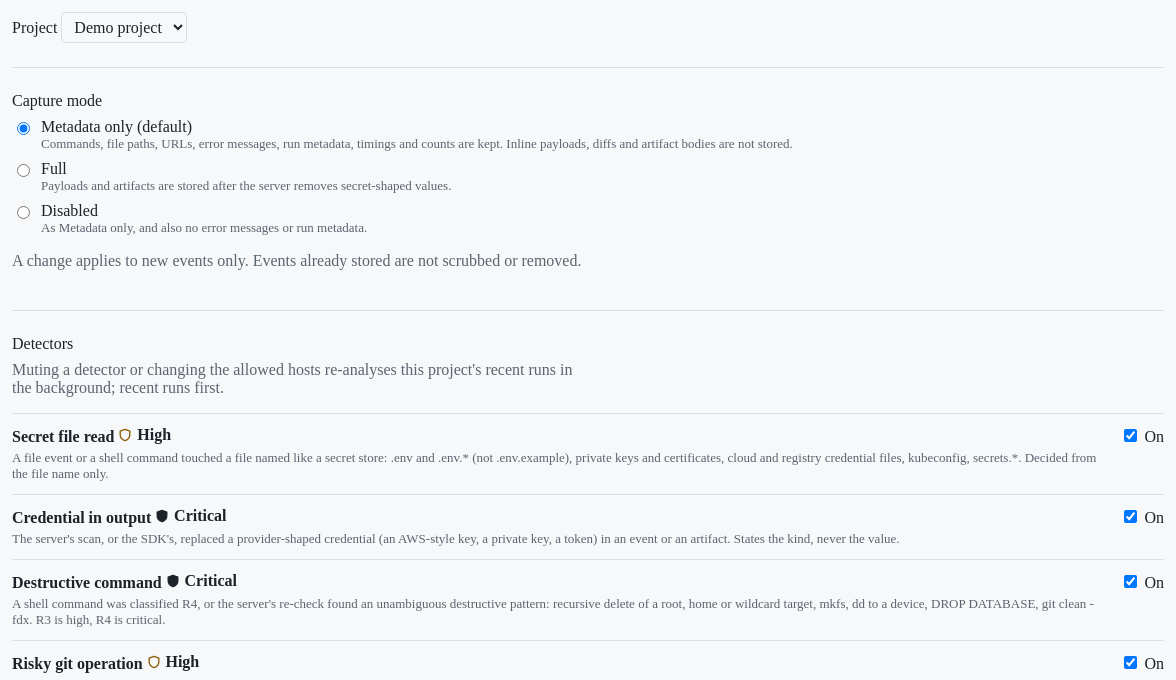
Test: Security settings › saves only what changed, then shows what the API stored
Check: the element "Capture mode" is shown, box [12,67,1164,286]
Click the radio button labelled "Full" at (24, 170), box [17,164,30,177]
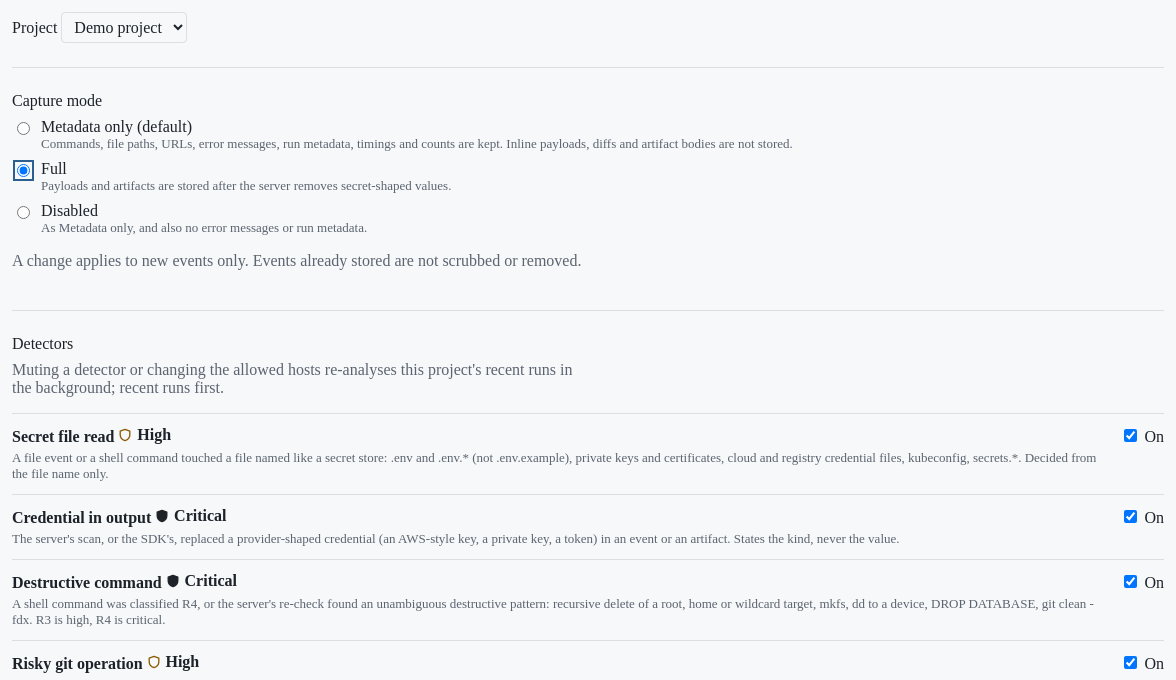
Click the checkbox named "Report risky git" at (1131, 662), box [1124,656,1137,669]
(page scrolled)
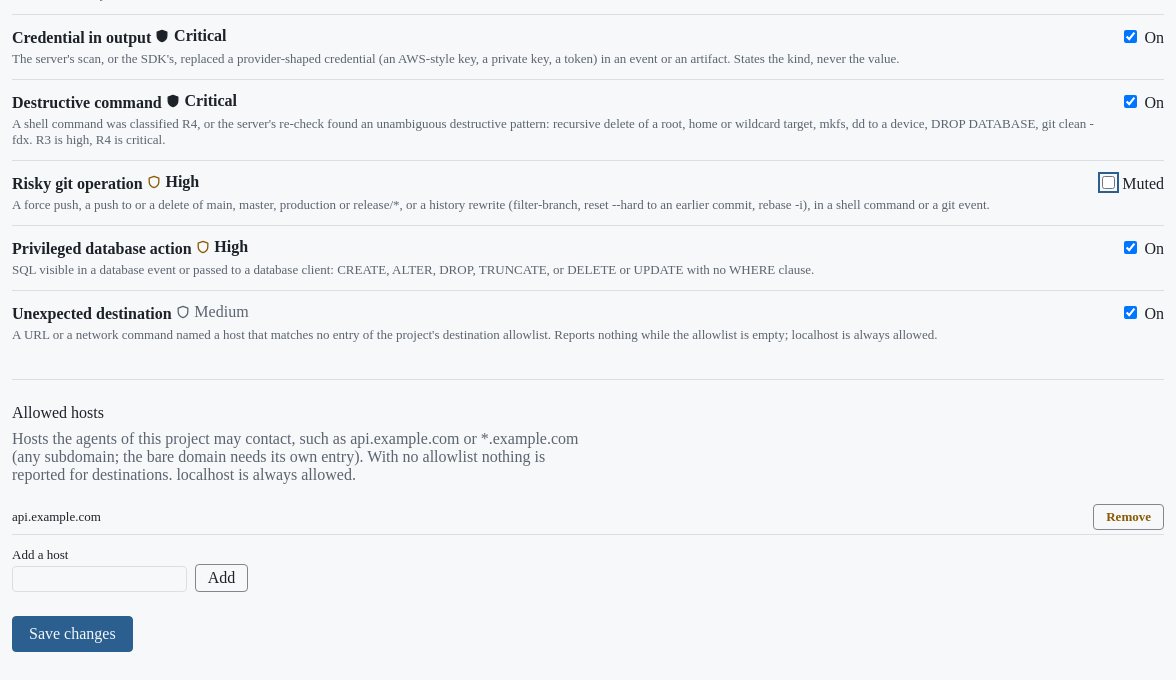
Click the button "Save changes" at (72, 634), box [12,616,133,652]
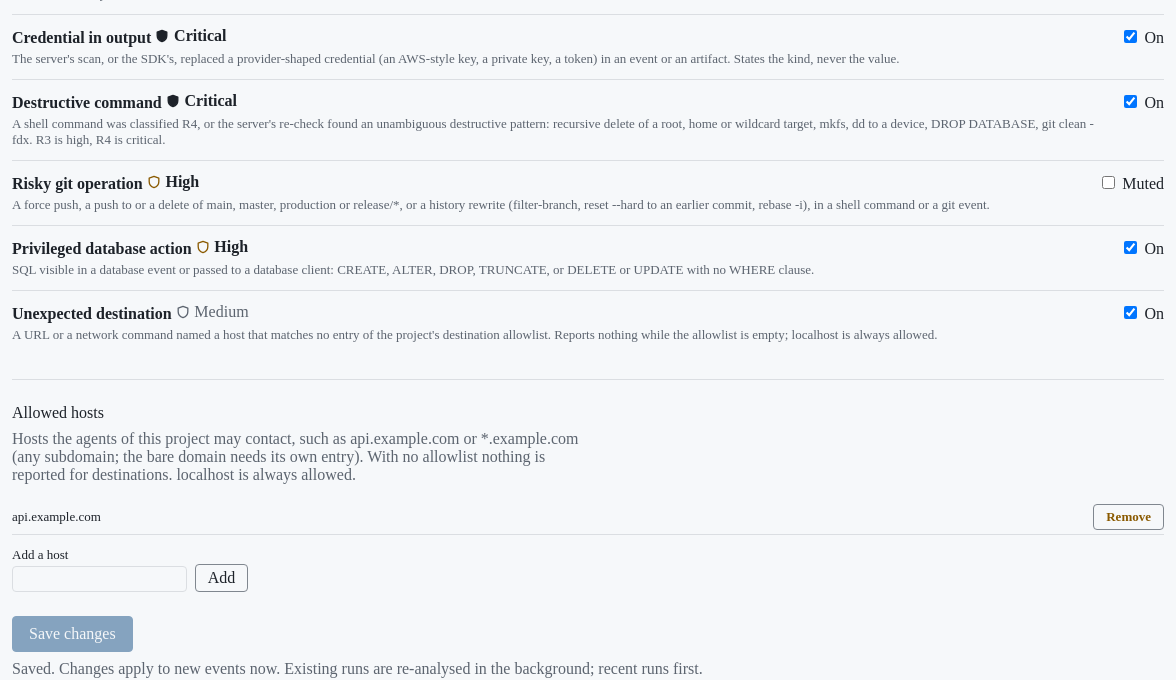
Check: the checkbox named "Report risky git" is not checked, box [1102,176,1115,189]
Check: the message with test id "save-status" shows "Saved.", box [12,660,703,677]
Check: the message with test id "save-status" shows "Existing runs are re-analysed in the background; recent runs first.", box [12,660,703,677]
